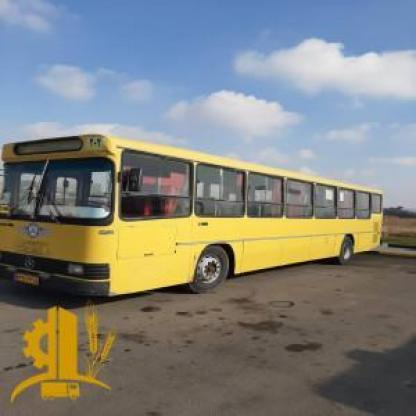Bus: (0, 127, 388, 302)
